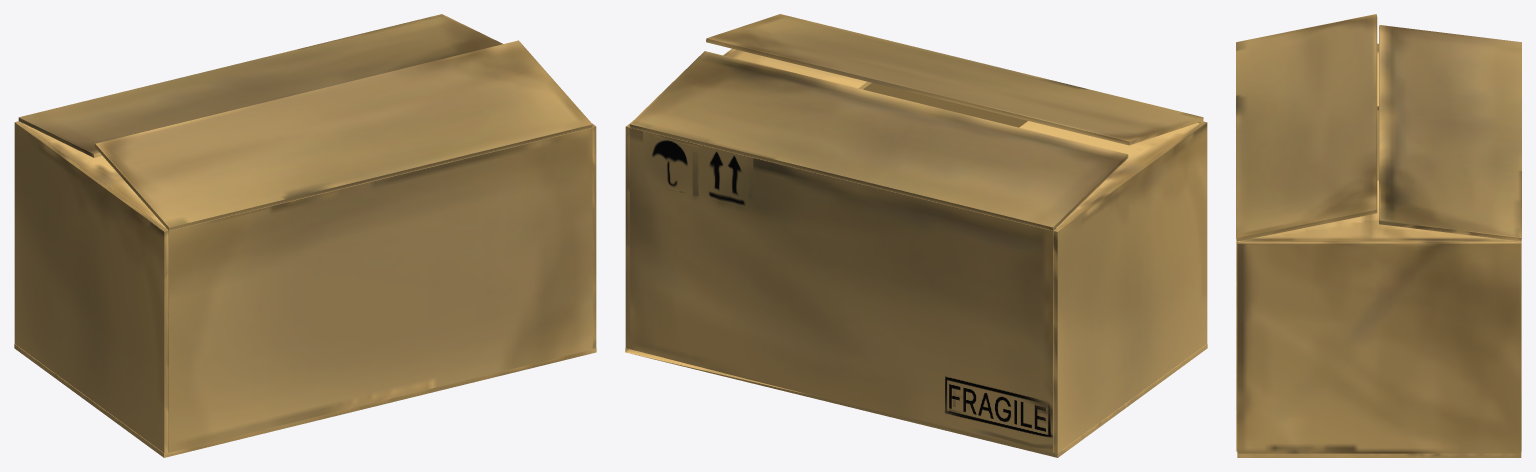
File: koli.fbx
The picture shows the model from 3 angles, left to right: view 1: azimuth 30°, elevation 25°; view 2: azimuth 150°, elevation 25°; view 3: azimuth 270°, elevation 25°; orthographic projection. The views are drawn at different scales.
Parts seen in each view (by area): view 1: Cube.002; view 2: Cube.002; view 3: Cube.002.
Part boxes in pixels (box(x1,y1,x2,y2)): Cube.002: box(14, 14, 596, 457); Cube.002: box(625, 14, 1207, 457); Cube.002: box(1236, 14, 1521, 457).
Bounding box in the file's own units: 817 × 468 × 493.
1 material, 1 textured.
